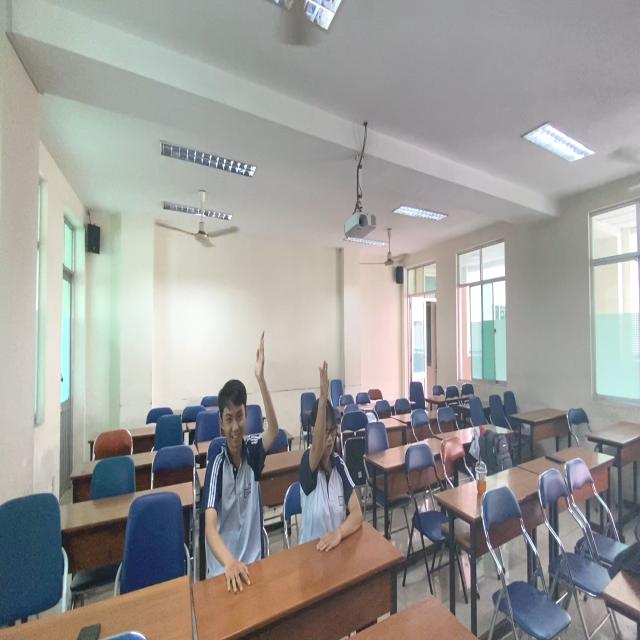raise_hand: (195, 327, 279, 589), (298, 363, 368, 558)
